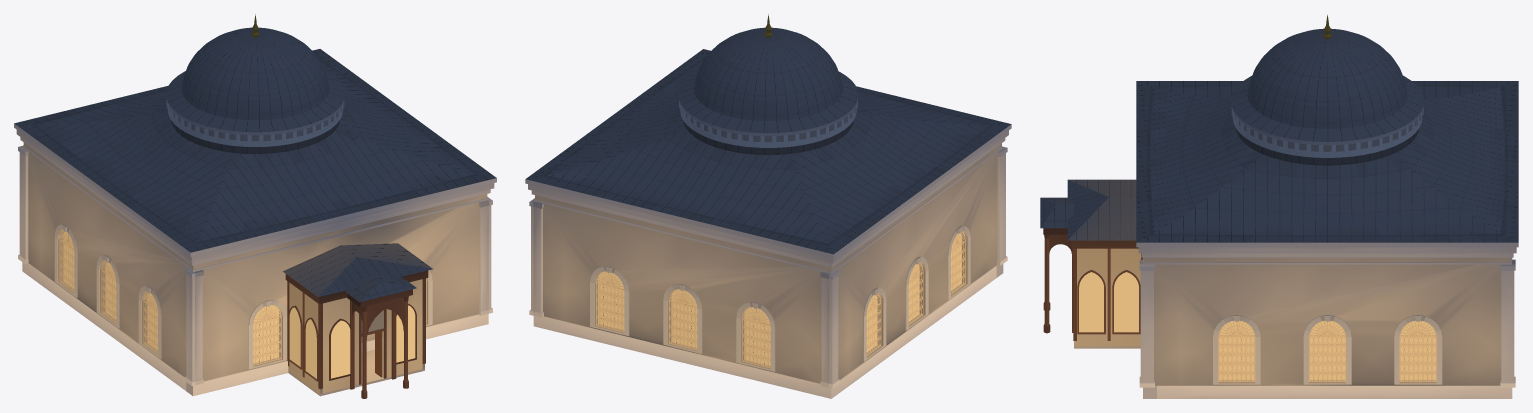
File: orhan-gazi-turbesi_v02_night.glb
3 views of the same model, side by side, from view 1: azimuth 30°, elevation 25°; view 2: azimuth 150°, elevation 25°; view 3: azimuth 270°, elevation 25° (orthographic). The views are drawn at different scales.
Visible parts, largest first — view 1: Cati_Etek, Govde, Giris_Holu, Pilastr_Silme, Kubbe, Pencereler, Kasnak; view 2: Govde, Cati_Etek, Pilastr_Silme, Kubbe, Pencereler, Kasnak; view 3: Cati_Etek, Govde, Kubbe, Pilastr_Silme, Giris_Holu, Pencereler, Kasnak.
Boxes of the visible parts, left/top/right/bottom form: Cati_Etek: left=14, top=49, right=496, bottom=252; Govde: left=23, top=142, right=487, bottom=380; Giris_Holu: left=283, top=243, right=432, bottom=398; Pilastr_Silme: left=14, top=55, right=496, bottom=396; Kubbe: left=166, top=14, right=344, bottom=132; Pencereler: left=54, top=224, right=432, bottom=369; Kasnak: left=166, top=100, right=344, bottom=154; Govde: left=535, top=143, right=1001, bottom=383; Cati_Etek: left=526, top=49, right=1010, bottom=254; Pilastr_Silme: left=525, top=124, right=1011, bottom=398; Kubbe: left=678, top=14, right=858, bottom=133; Pencereler: left=590, top=225, right=970, bottom=371; Kasnak: left=679, top=100, right=857, bottom=155; Cati_Etek: left=1136, top=81, right=1518, bottom=242; Govde: left=1144, top=257, right=1510, bottom=385; Kubbe: left=1230, top=15, right=1424, bottom=141; Pilastr_Silme: left=1136, top=242, right=1518, bottom=398; Giris_Holu: left=1040, top=179, right=1142, bottom=348; Pencereler: left=1213, top=258, right=1512, bottom=384; Kasnak: left=1231, top=107, right=1423, bottom=165.
Bounding box in the file's own units: 17.5 × 15.5 × 21.9.
Materials: 12 (3 with a texture image).
